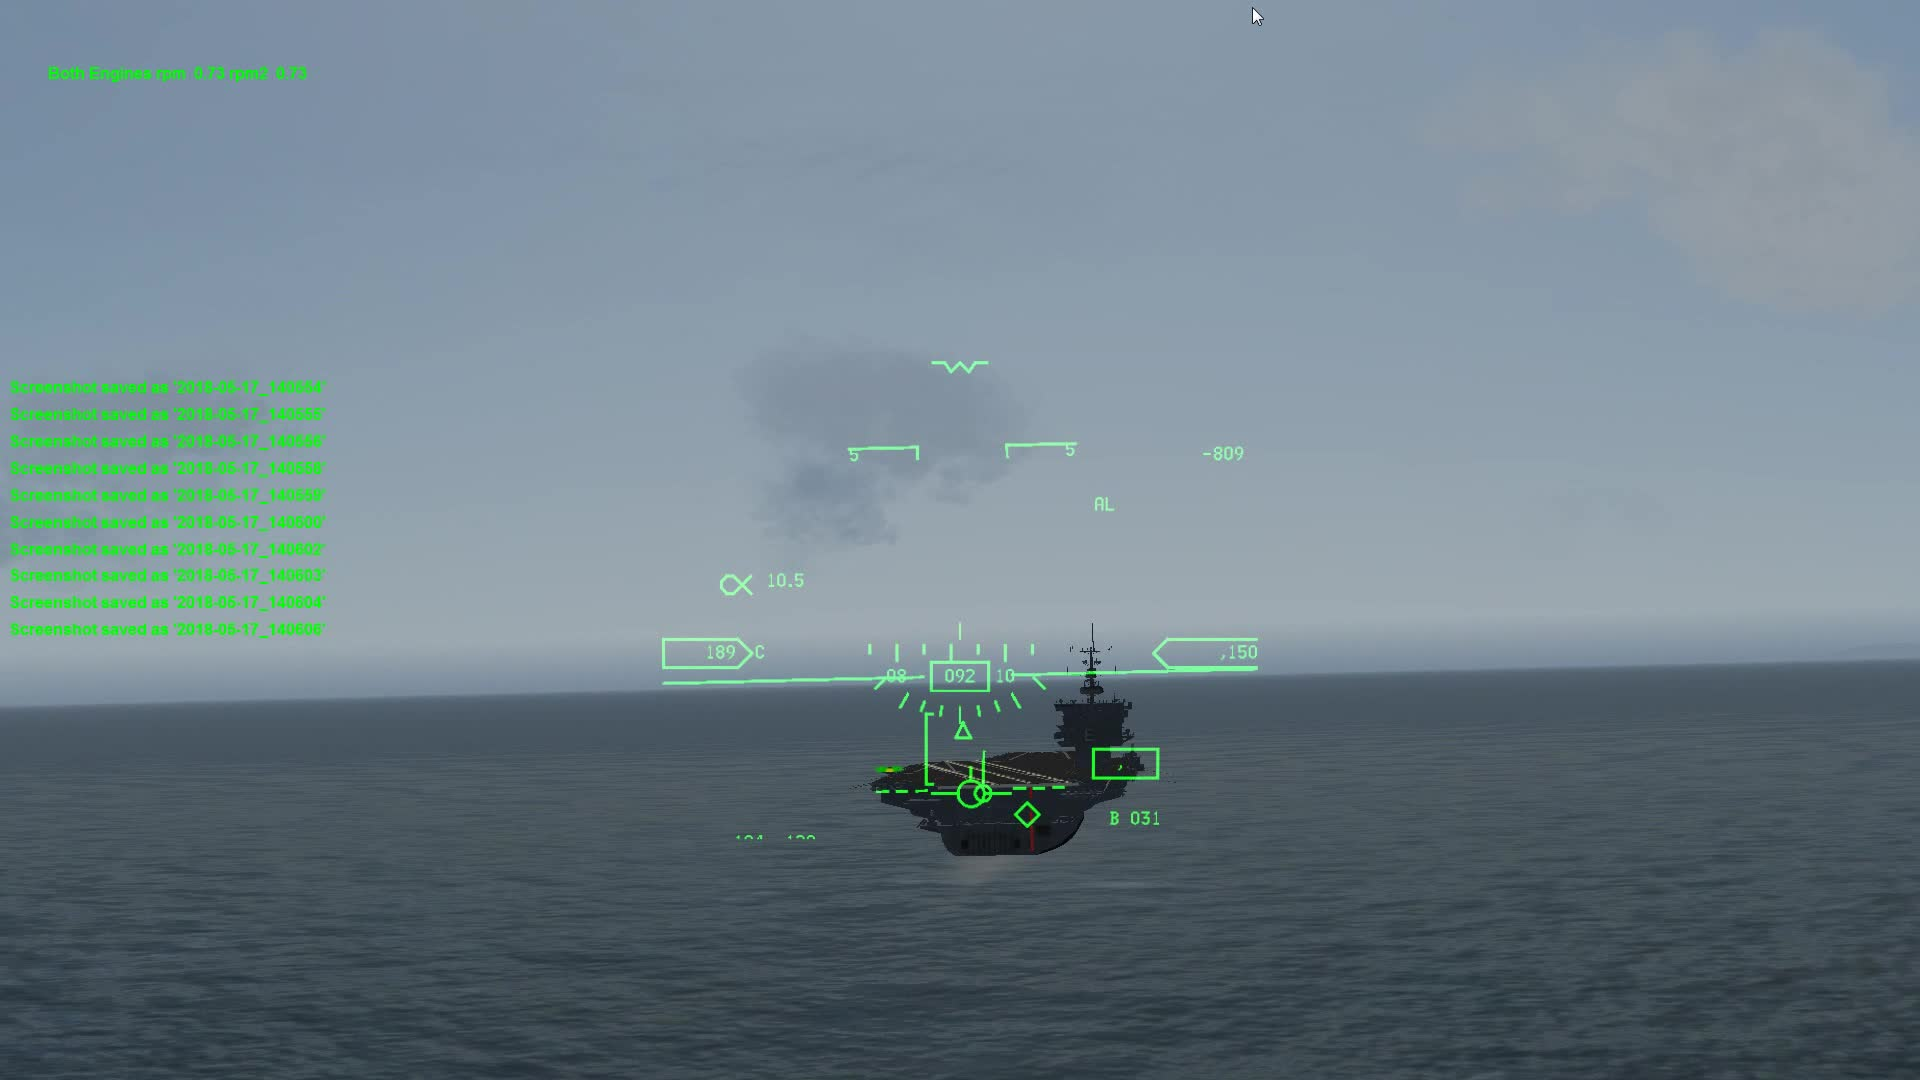speed vector: (935, 771, 1018, 814)
